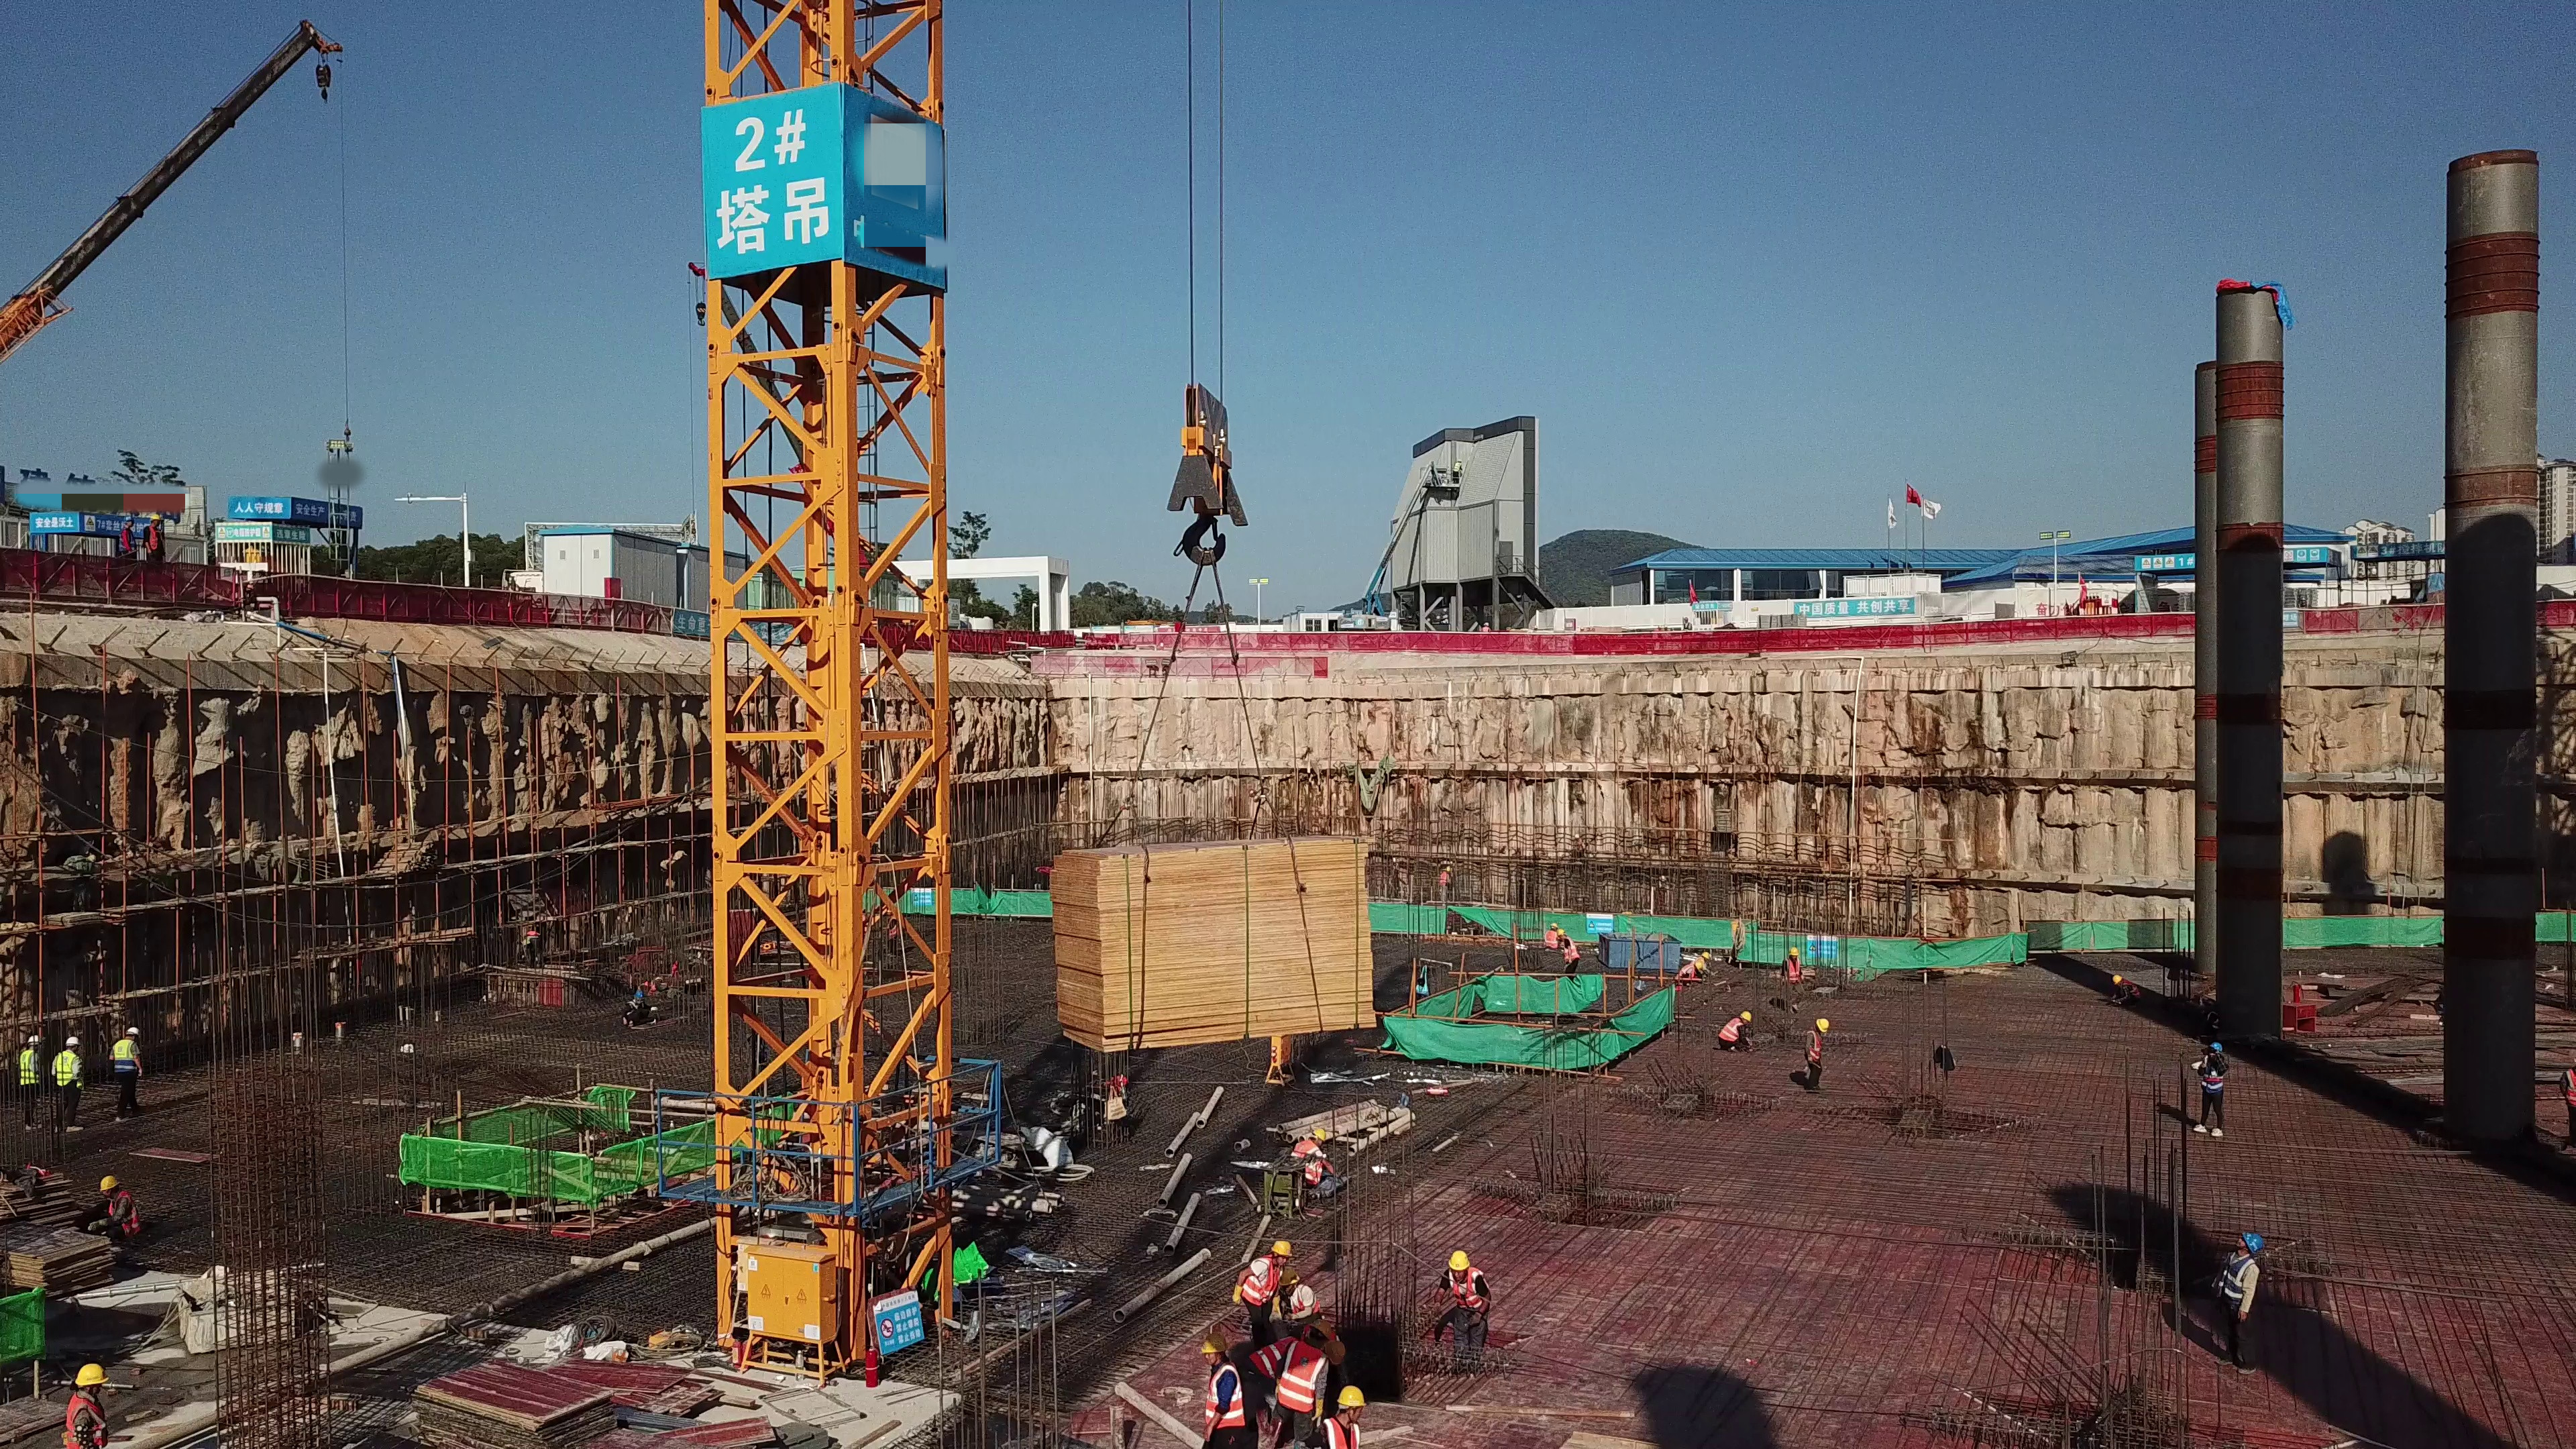helmet: (2238, 1224, 2271, 1258), (1336, 1387, 1367, 1411), (1323, 1339, 1346, 1366), (1270, 1240, 1293, 1263), (1201, 1330, 1226, 1352), (1311, 1320, 1336, 1339), (1446, 1251, 1470, 1269), (1279, 1267, 1300, 1286), (21, 1030, 44, 1046), (101, 1173, 121, 1189), (1312, 1126, 1330, 1142), (1815, 1019, 1833, 1032), (62, 1037, 80, 1049), (128, 1024, 142, 1038), (2208, 1041, 2224, 1053), (148, 509, 161, 523), (1740, 1012, 1753, 1024), (2111, 974, 2123, 986), (1788, 947, 1800, 958), (633, 989, 643, 999), (123, 513, 134, 521), (1699, 951, 1711, 959), (1555, 927, 1564, 936), (1550, 922, 1556, 928)
person: (2208, 1227, 2270, 1381), (1433, 1246, 1495, 1379), (1195, 1331, 1246, 1449), (1226, 1240, 1293, 1320), (1285, 1314, 1324, 1449), (107, 1023, 152, 1132), (60, 1362, 113, 1449), (48, 1034, 92, 1136), (1285, 1127, 1344, 1193), (92, 1173, 143, 1247), (2192, 1040, 2229, 1144), (1325, 1377, 1372, 1449), (1805, 1006, 1841, 1100), (19, 1032, 46, 1137), (1275, 1269, 1323, 1316), (1779, 945, 1810, 1018), (2555, 1055, 2576, 1151), (1713, 1009, 1755, 1055), (141, 508, 173, 566), (515, 926, 554, 973), (617, 987, 656, 1030), (2104, 975, 2141, 1017), (1556, 927, 1582, 980), (884, 900, 908, 959), (118, 513, 138, 561), (1676, 962, 1707, 987), (1540, 921, 1563, 952), (1693, 951, 1717, 977)
vest: (1204, 1364, 1242, 1422), (1285, 1350, 1313, 1417), (1243, 1256, 1277, 1302), (2222, 1254, 2253, 1302), (1250, 1335, 1293, 1369), (1450, 1272, 1483, 1310), (107, 1197, 142, 1230), (1328, 1421, 1358, 1449), (1289, 1292, 1320, 1314), (2201, 1061, 2224, 1091), (1805, 1032, 1825, 1065), (1715, 1018, 1741, 1044), (18, 1050, 36, 1083), (113, 1040, 133, 1070), (58, 1052, 76, 1083), (146, 526, 165, 552), (1293, 1139, 1314, 1163), (1562, 937, 1580, 963), (1786, 959, 1802, 985), (625, 1003, 643, 1022), (120, 525, 133, 551), (1545, 928, 1556, 952), (2123, 978, 2139, 997)
